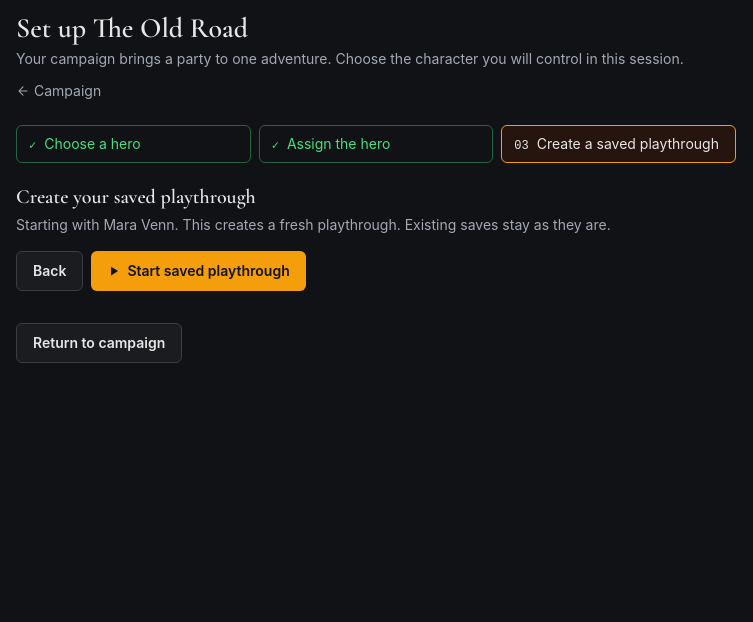
Scenario: allows hero recovery after the server rejects an assignment before save creation
What coordinates should you click on to do the following:
click the button "Start saved playthrough"
I would click on:
 (199, 271)
Its box is left=91, top=251, right=306, bottom=291.
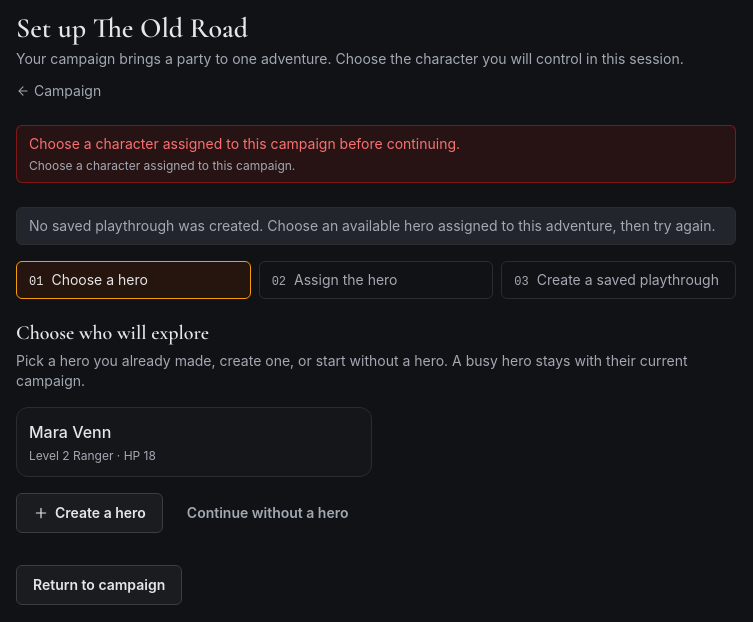
Result: the text "No saved playthrough was created. Choose an available hero" is shown at left=29, top=217, right=716, bottom=234
Result: the text "Choose who will explore" is shown at left=16, top=321, right=209, bottom=345
